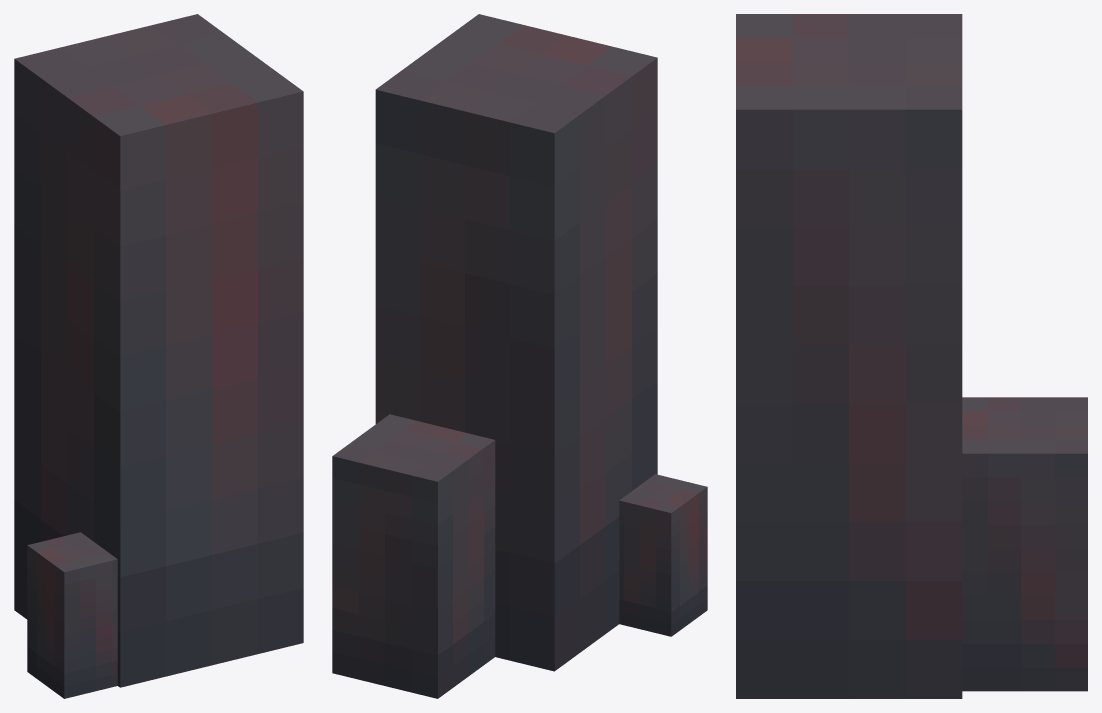
File: hematite_crystal_three.obj
3 renders of one model, left to right at view 1: azimuth 30°, elevation 25°; view 2: azimuth 150°, elevation 25°; view 3: azimuth 270°, elevation 25°, orthographic. The views are drawn at different scales.
Parts seen in each view (by area): view 1: Crystal5_Cube.008; view 2: Crystal5_Cube.008; view 3: Crystal5_Cube.008.
Boxes of the visible parts, x1,y1,x2,y2 form: Crystal5_Cube.008: [14, 14, 303, 698]; Crystal5_Cube.008: [332, 14, 707, 698]; Crystal5_Cube.008: [736, 14, 1087, 698].
Bounding box in the file's own units: 0.1959 × 0.4361 × 0.2358.
